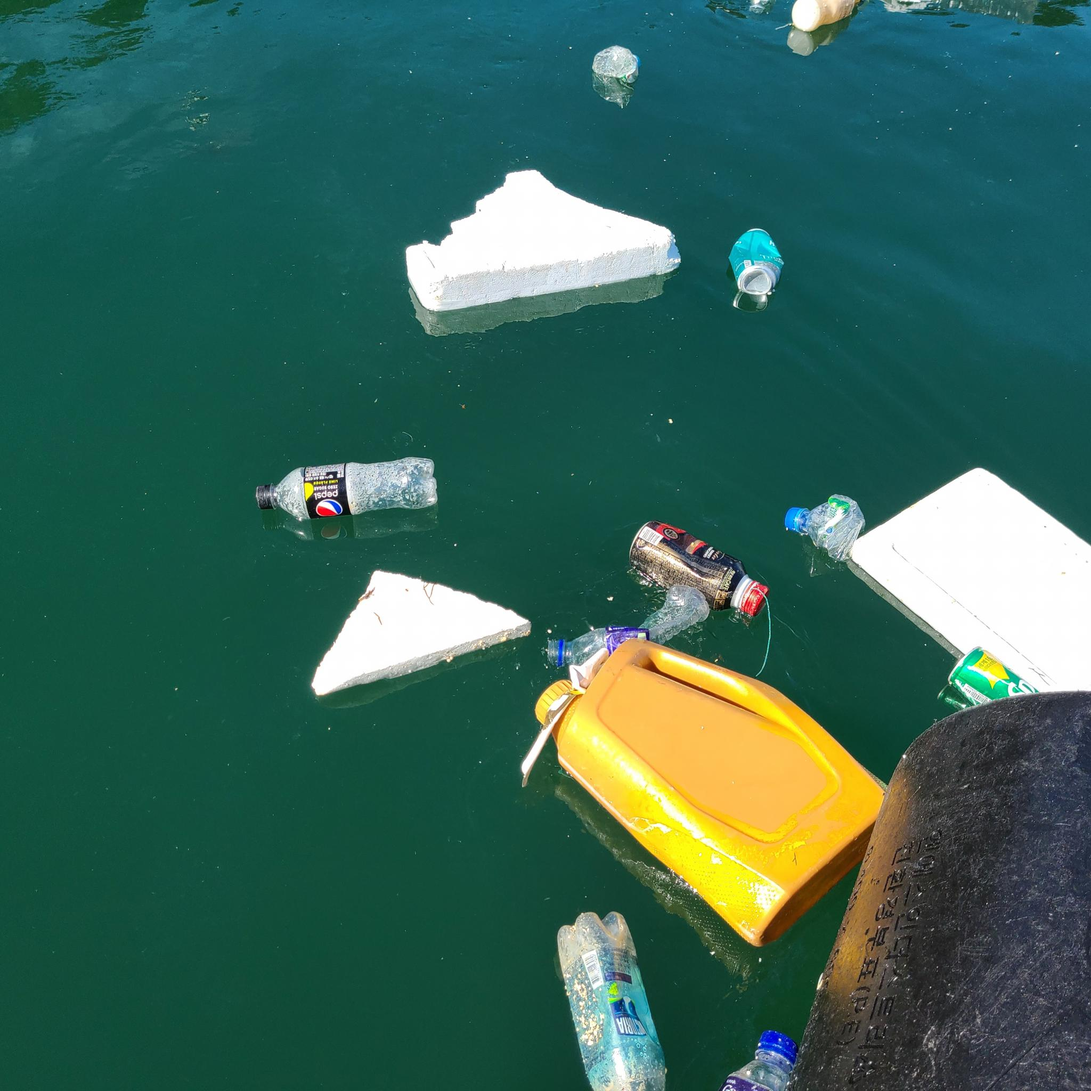sampah_terapung: (786, 691, 1091, 1091), (534, 639, 885, 948), (847, 469, 1091, 693), (407, 170, 682, 312), (312, 571, 532, 695), (557, 911, 665, 1091), (548, 585, 711, 668), (629, 521, 769, 617), (256, 457, 438, 520), (785, 494, 866, 563), (948, 647, 1039, 706), (717, 1030, 797, 1091), (728, 229, 786, 296), (792, 1, 860, 33), (592, 46, 642, 79)
